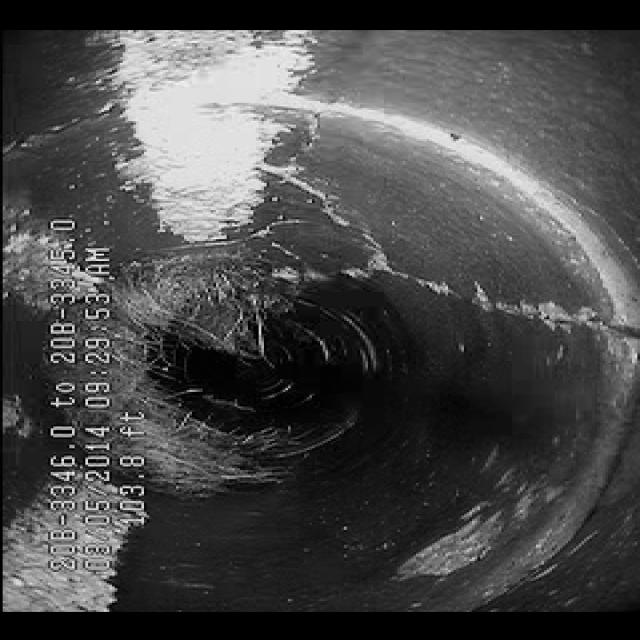Fracture: (335, 205, 606, 338)
